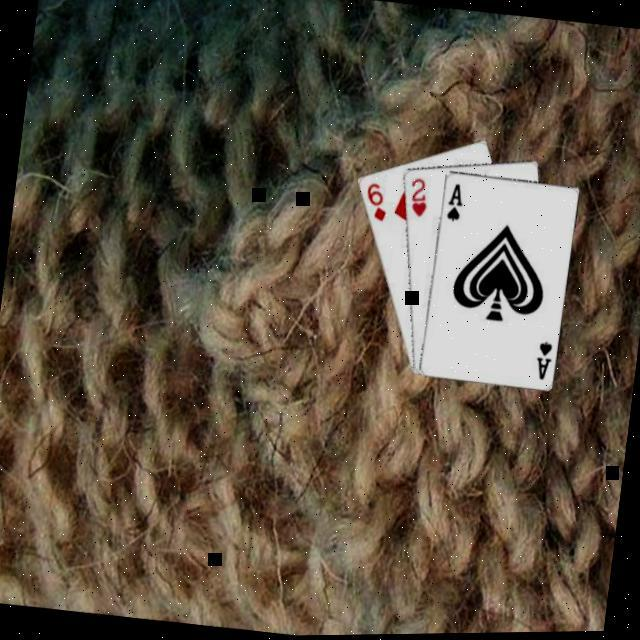2H: (404, 176, 432, 222)
6D: (360, 180, 392, 226)
AS: (531, 339, 556, 385), (442, 181, 468, 225)
